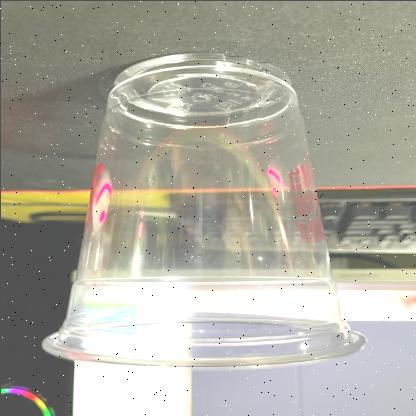Others: (36, 50, 370, 372)
